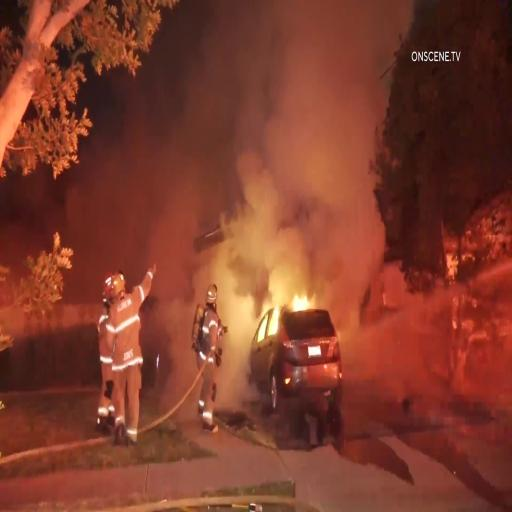fire: (260, 292, 310, 346)
smoke: (100, 91, 375, 279), (172, 8, 386, 168), (346, 281, 440, 396), (160, 281, 190, 388)
